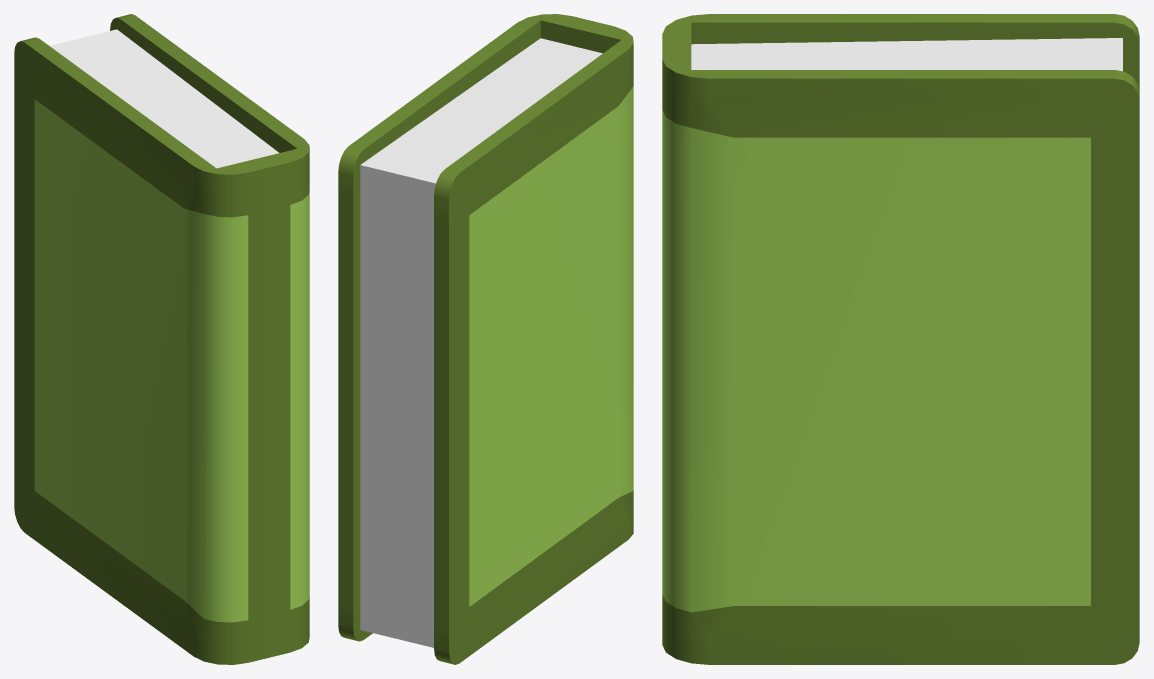
File: Books_03.glb
3 renders of one model, left to right at view 1: azimuth 30°, elevation 25°; view 2: azimuth 150°, elevation 25°; view 3: azimuth 270°, elevation 25°, orthographic. The views are drawn at different scales.
Parts seen in each view (by area): view 1: book_03; view 2: book_03; view 3: book_03.
Boxes of the visible parts, bbox=[...] form: book_03: bbox=[14, 14, 309, 664]; book_03: bbox=[338, 14, 633, 664]; book_03: bbox=[662, 14, 1139, 664].
Bounding box in the file's own units: 0.0537 × 0.2267 × 0.1673.
3 materials, 1 textured.
